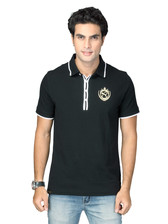clothoes: (27, 51, 140, 196)
watch: (26, 178, 54, 190)
